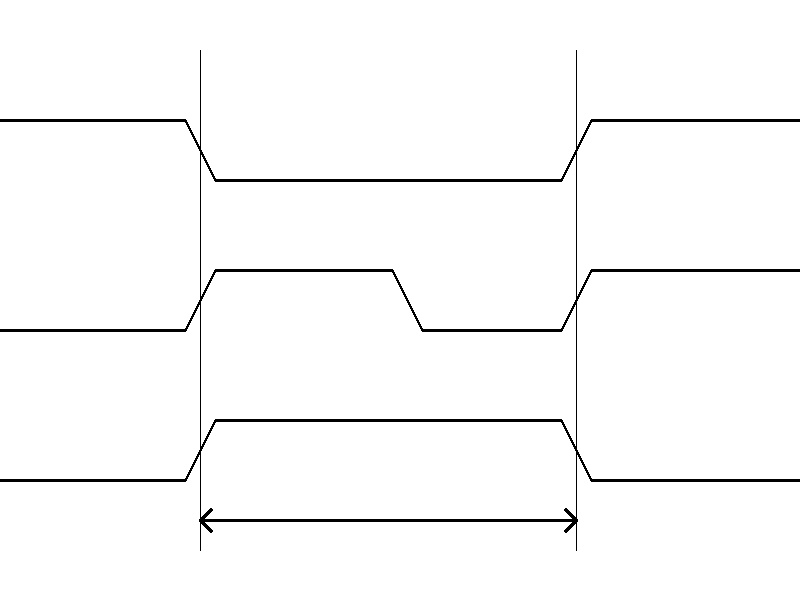double_arrow: (200, 505, 576, 535)
